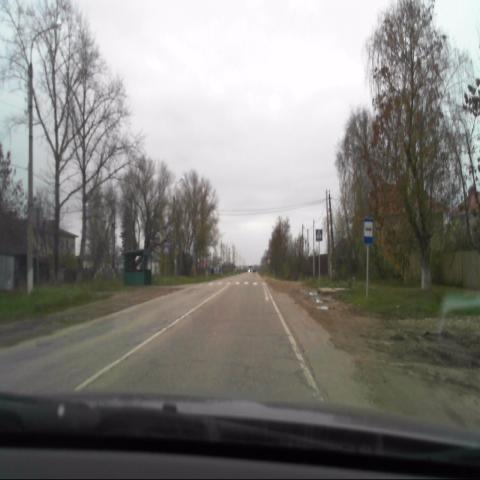5_16: (362, 218, 374, 243)
5_19_1: (316, 228, 323, 243)
